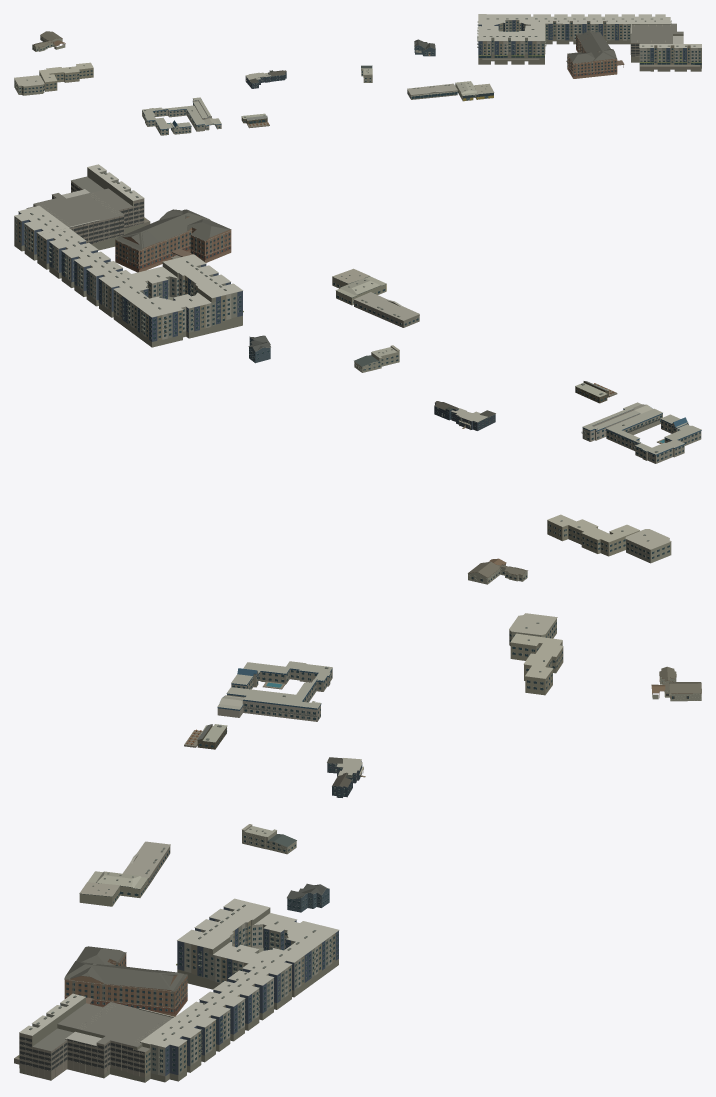
The model's file is site.glb.
3 renders of one model, top to bottom at view 1: azimuth 30°, elevation 25°; view 2: azimuth 150°, elevation 25°; view 3: azimuth 270°, elevation 25°, orthographic. The views are drawn at different scales.
Visible parts, largest first — view 1: roof-8eca97a4, roof-91faae5f, roof-5bd201f0, roof-f6ebca49, roof-674b7c1b, garden-franklin-paving, garden-detached-170532, roof-c59710ce, roof-04f04915, franklin-2025-east, roof-5240d32d, roof-a49cdd04 (+2 smaller); view 2: roof-8eca97a4, roof-91faae5f, roof-5bd201f0, roof-f6ebca49, roof-674b7c1b, garden-detached-170532, roof-c59710ce, roof-04f04915, franklin-2025-east, roof-df51b598, roof-a49cdd04; view 3: roof-8eca97a4, roof-91faae5f, roof-5bd201f0, roof-f6ebca49, roof-04f04915, roof-674b7c1b, roof-c59710ce, roof-df51b598, garden-detached-170532, franklin-2025-east, roof-5240d32d, franklin-2045-east.
Boxes of the visible parts, <box> form: roof-8eca97a4: <box>477,14,701,71</box>; roof-91faae5f: <box>567,31,624,78</box>; roof-5bd201f0: <box>142,105,204,135</box>; roof-f6ebca49: <box>39,62,93,91</box>; roof-674b7c1b: <box>407,83,457,99</box>; garden-franklin-paving: <box>167,54,699,128</box>; garden-detached-170532: <box>14,75,44,95</box>; roof-c59710ce: <box>32,31,65,51</box>; roof-04f04915: <box>192,97,221,130</box>; franklin-2025-east: <box>455,81,478,101</box>; roof-5240d32d: <box>414,39,435,56</box>; roof-a49cdd04: <box>245,72,271,88</box>; roof-8eca97a4: <box>14,164,243,347</box>; roof-91faae5f: <box>115,209,231,272</box>; roof-5bd201f0: <box>605,408,701,463</box>; roof-f6ebca49: <box>547,514,639,556</box>; roof-674b7c1b: <box>354,292,419,327</box>; garden-detached-170532: <box>625,529,671,563</box>; roof-c59710ce: <box>468,558,527,584</box>; roof-04f04915: <box>581,402,652,441</box>; franklin-2025-east: <box>335,276,386,305</box>; roof-df51b598: <box>354,345,399,372</box>; roof-a49cdd04: <box>451,408,495,430</box>; roof-8eca97a4: <box>18,898,339,1082</box>; roof-91faae5f: <box>64,946,187,1016</box>; roof-5bd201f0: <box>226,661,332,702</box>; roof-f6ebca49: <box>510,633,563,695</box>; roof-04f04915: <box>217,695,321,721</box>; roof-674b7c1b: <box>123,841,170,886</box>; roof-c59710ce: <box>651,666,701,701</box>; roof-df51b598: <box>242,824,296,854</box>; garden-detached-170532: <box>509,613,557,645</box>; franklin-2025-east: <box>87,871,148,897</box>; roof-5240d32d: <box>287,883,329,912</box>; franklin-2045-east: <box>79,882,120,906</box>.
Bounding box in the file's own units: 590 × 27.6 × 376.
